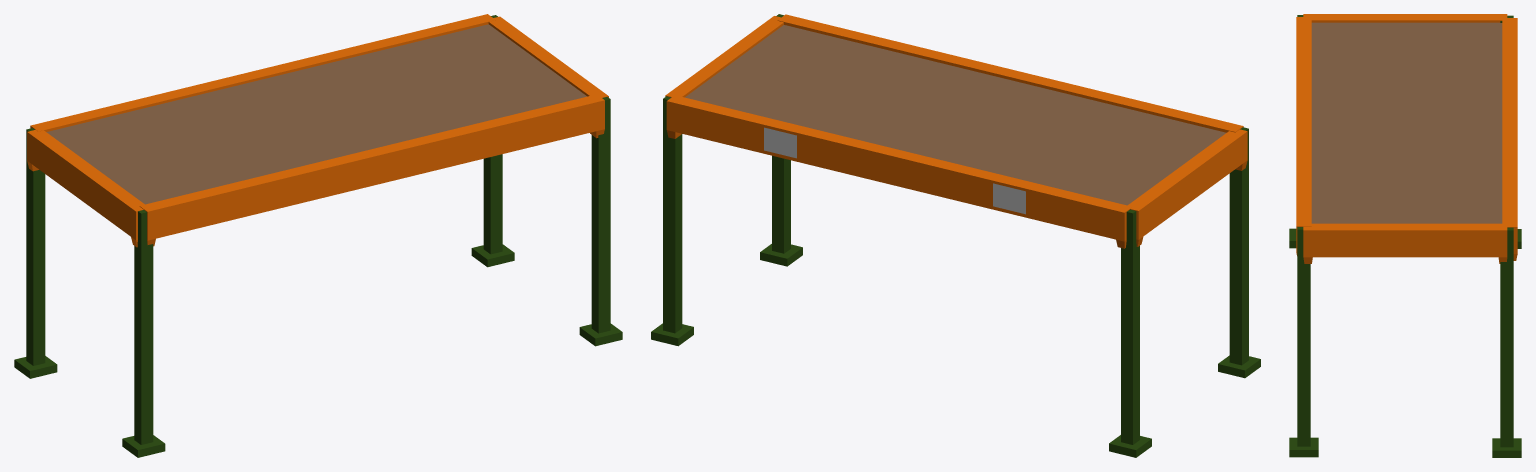
File: CostcoShelf_DoubleWide.fbx
3 renders of one model, left to right at view 1: azimuth 30°, elevation 25°; view 2: azimuth 150°, elevation 25°; view 3: azimuth 270°, elevation 25°, orthographic. The views are drawn at different scales.
Parts seen in each view (by area): view 1: CostcoShelf_DoubleWide; view 2: CostcoShelf_DoubleWide; view 3: CostcoShelf_DoubleWide.
Boxes of the visible parts, <box> form: CostcoShelf_DoubleWide: <box>14,14,622,457</box>; CostcoShelf_DoubleWide: <box>651,14,1260,457</box>; CostcoShelf_DoubleWide: <box>1289,14,1521,457</box>.
Size of the model in its own units: 424 by 201 by 188.
